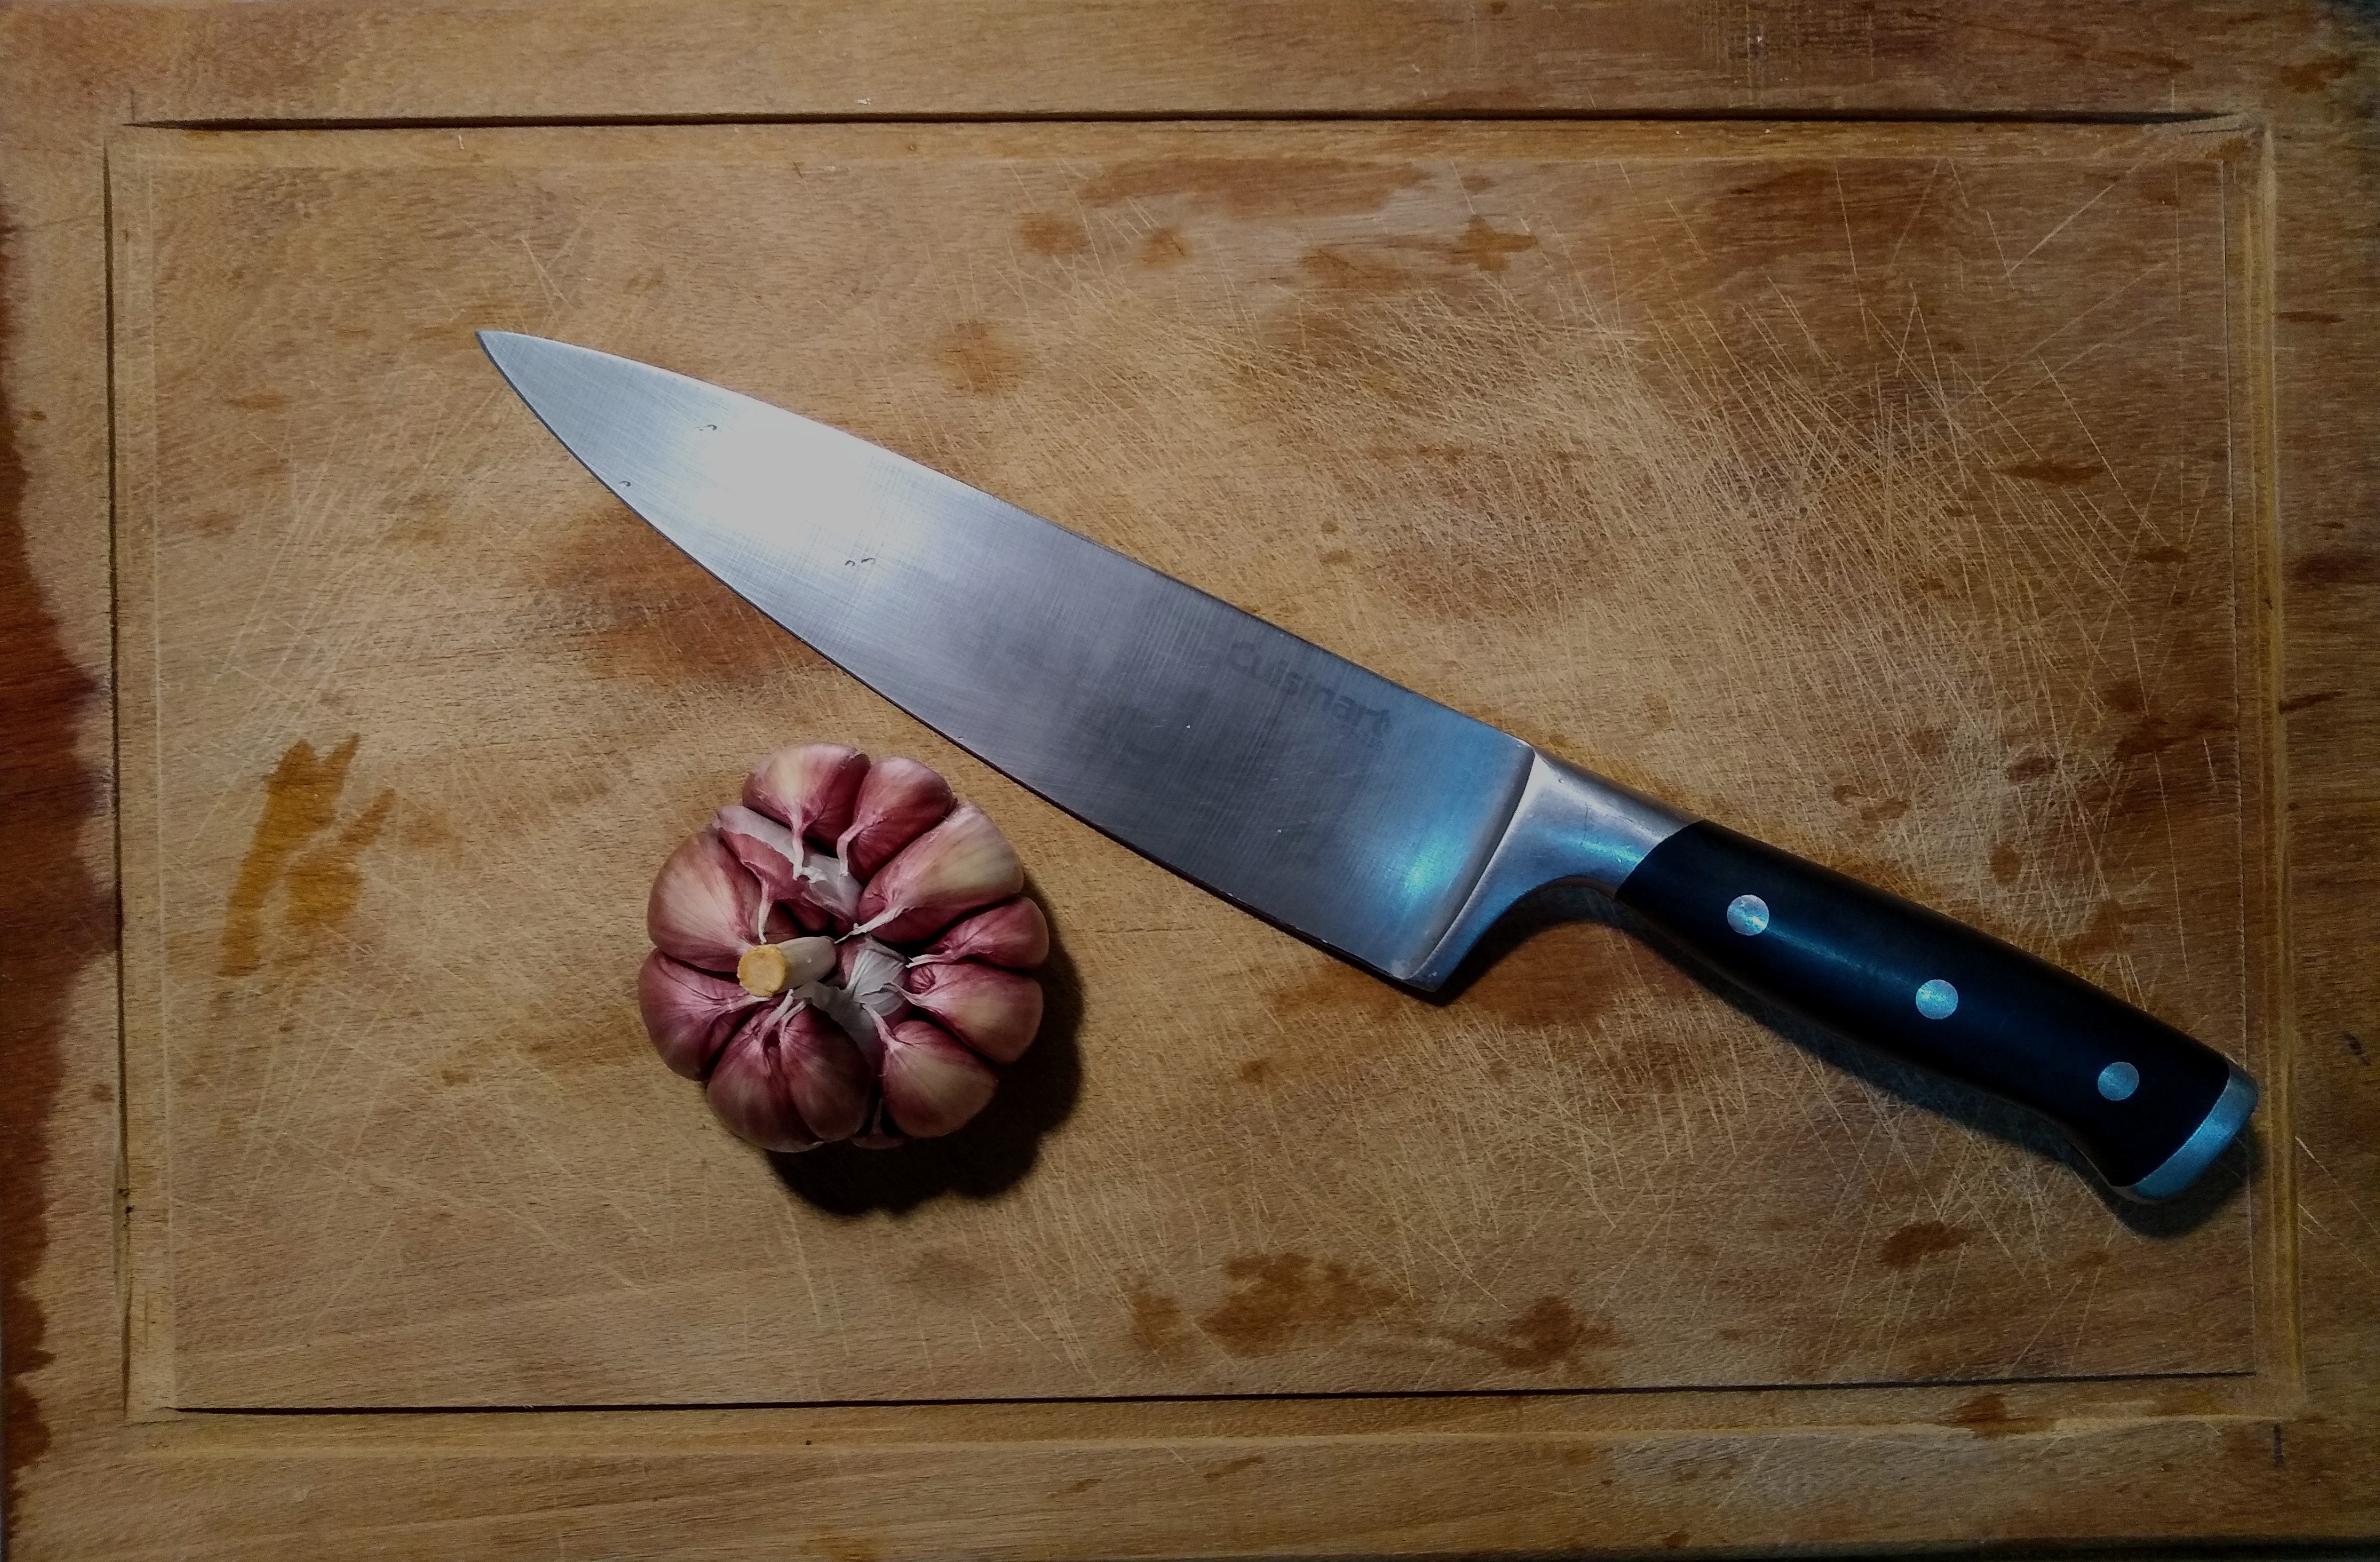knife: (431, 303, 2284, 1217)
